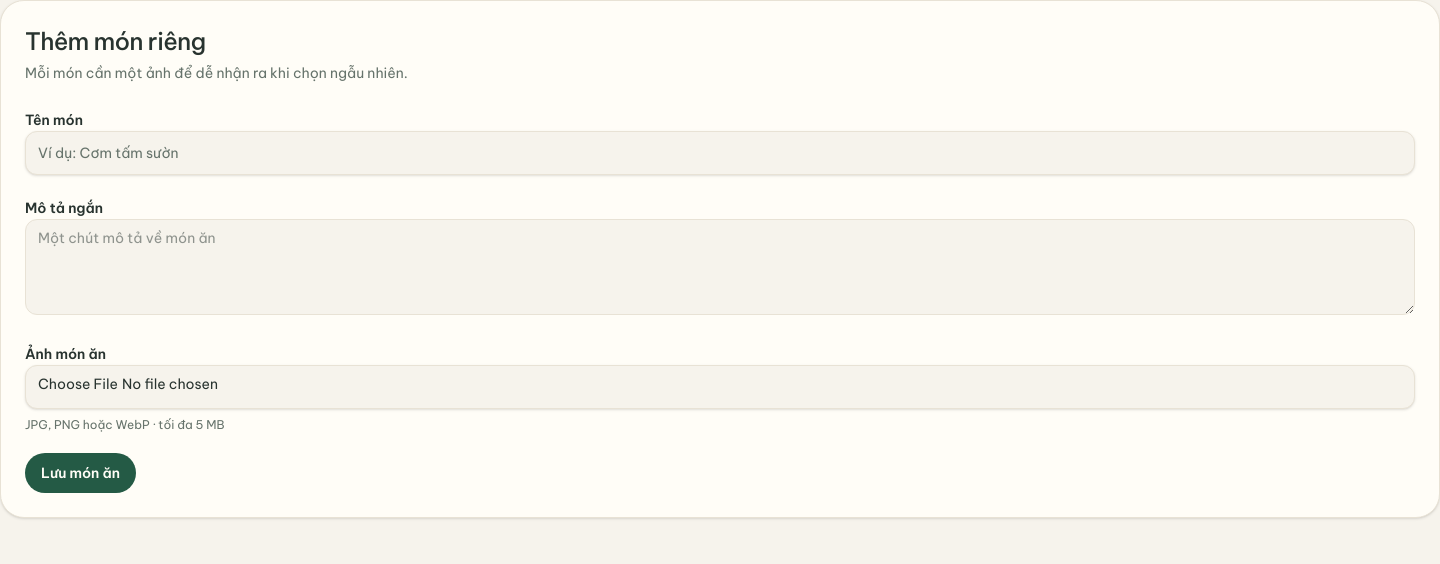
Test: DishForm › requires an image before saving a dish
The width and height of the screenshot is (1440, 564).
Type "Cơm tấm" into the field labelled "Tên món" at (720, 153), box [25, 131, 1415, 175]
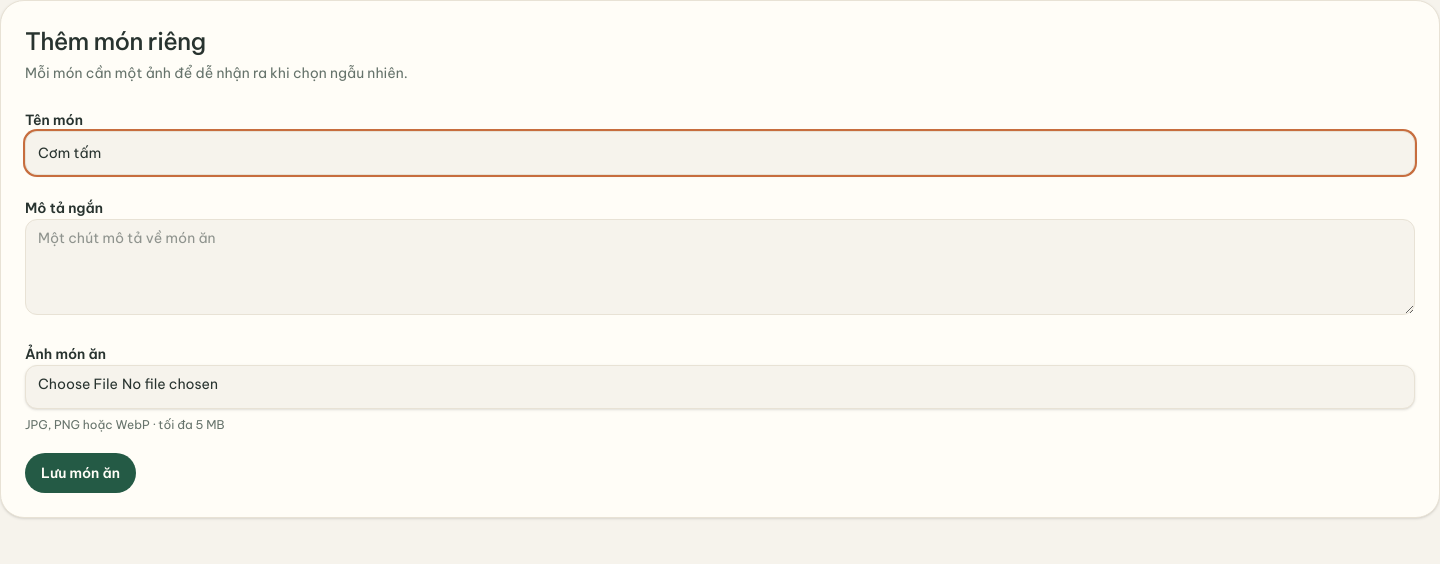
Type "Sườn nướng" into the text box labelled "Mô tả ngắn" at (720, 267), box [25, 219, 1415, 315]
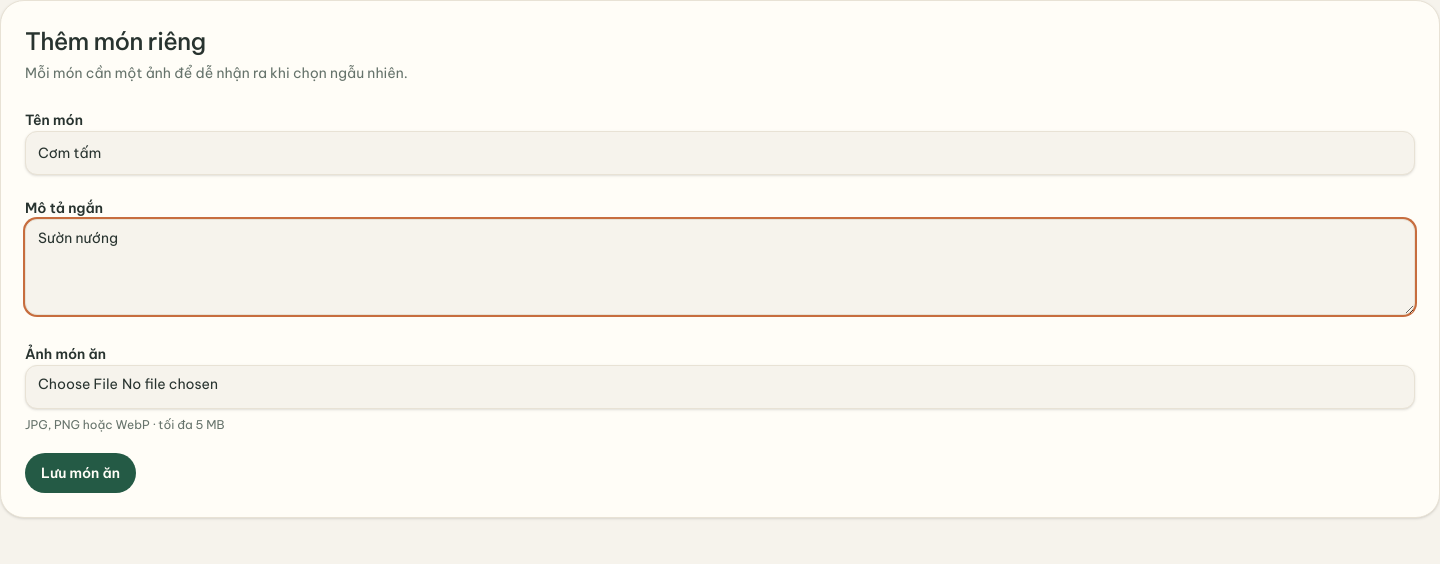
Click the button "Lưu món ăn" at (81, 473), box [25, 453, 136, 493]
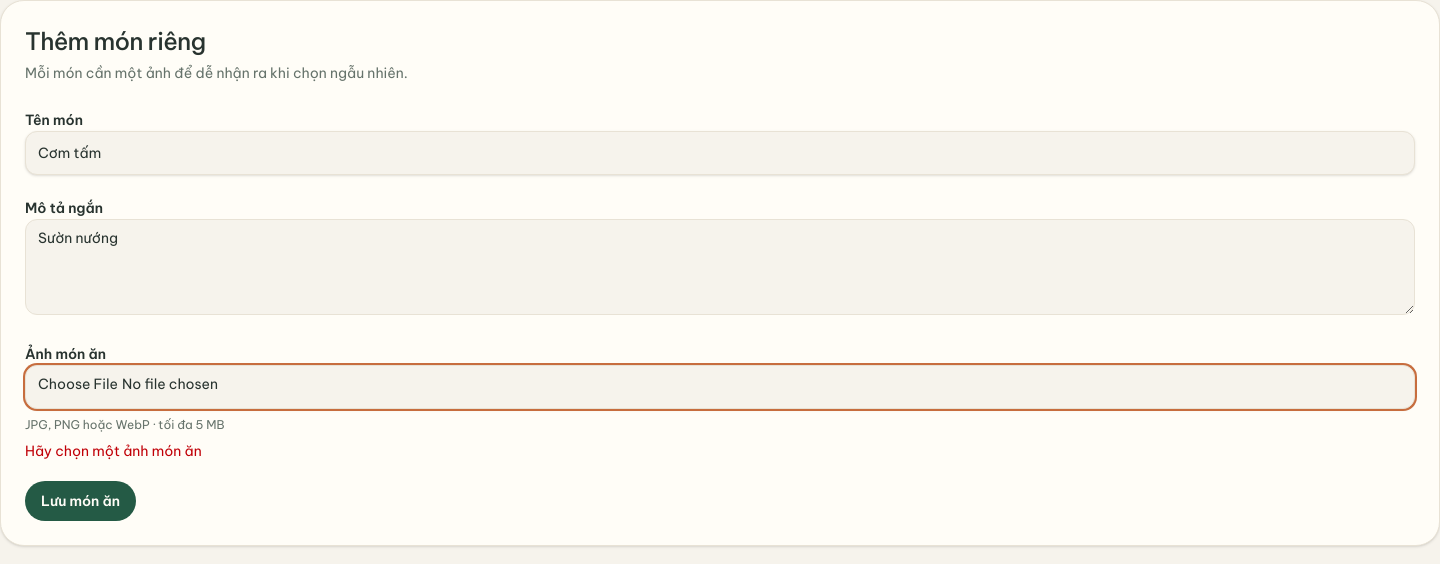
Check: the text "Hãy chọn một ảnh món ăn" is shown, box [25, 442, 202, 460]
